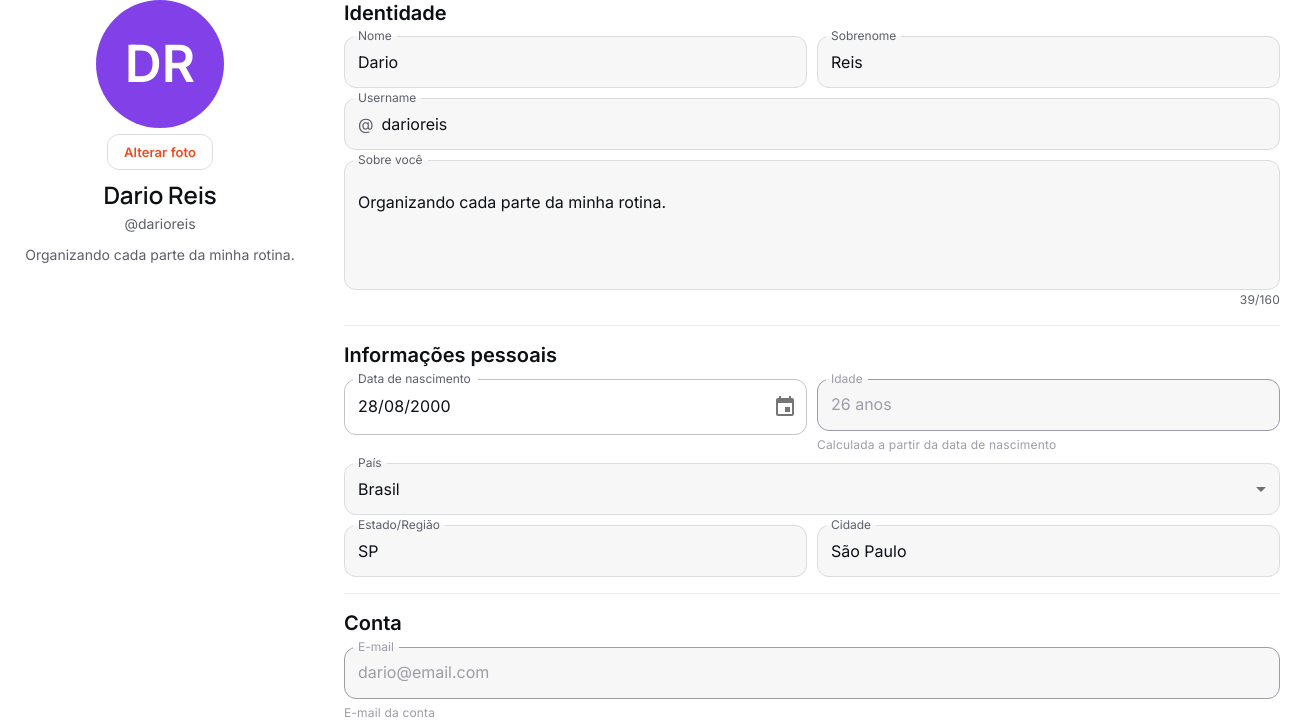
Test: ProfileForm › reports an unavailable username and blocks saving
Replace the text in the field labelled "Username" with "admin": coordinates (831, 124) [382,99,1280,150]
(page scrolled)
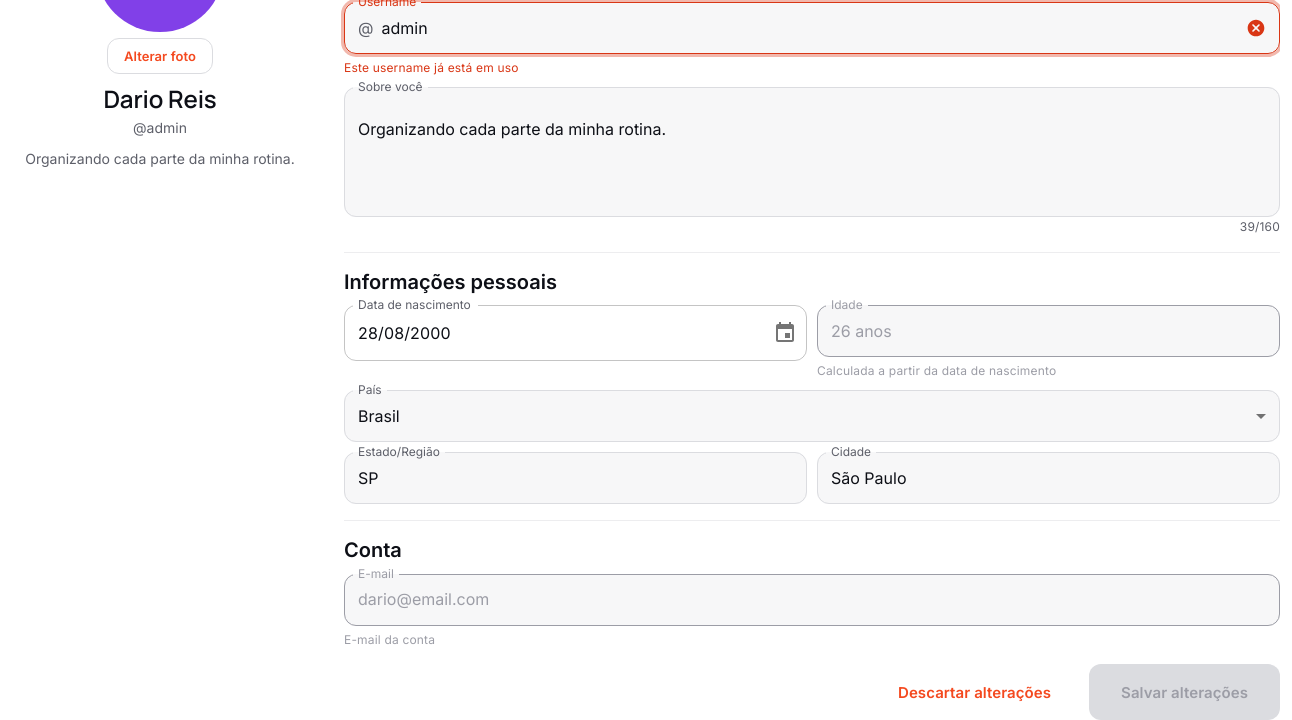
Check: the text "Este username já está em uso" is shown, box [344,60,519,75]
Check: the button "Salvar alterações" is disabled, box [1089,664,1280,719]
